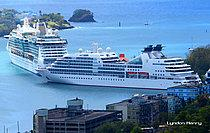Ship: (34, 49, 205, 94), (3, 9, 73, 79)
